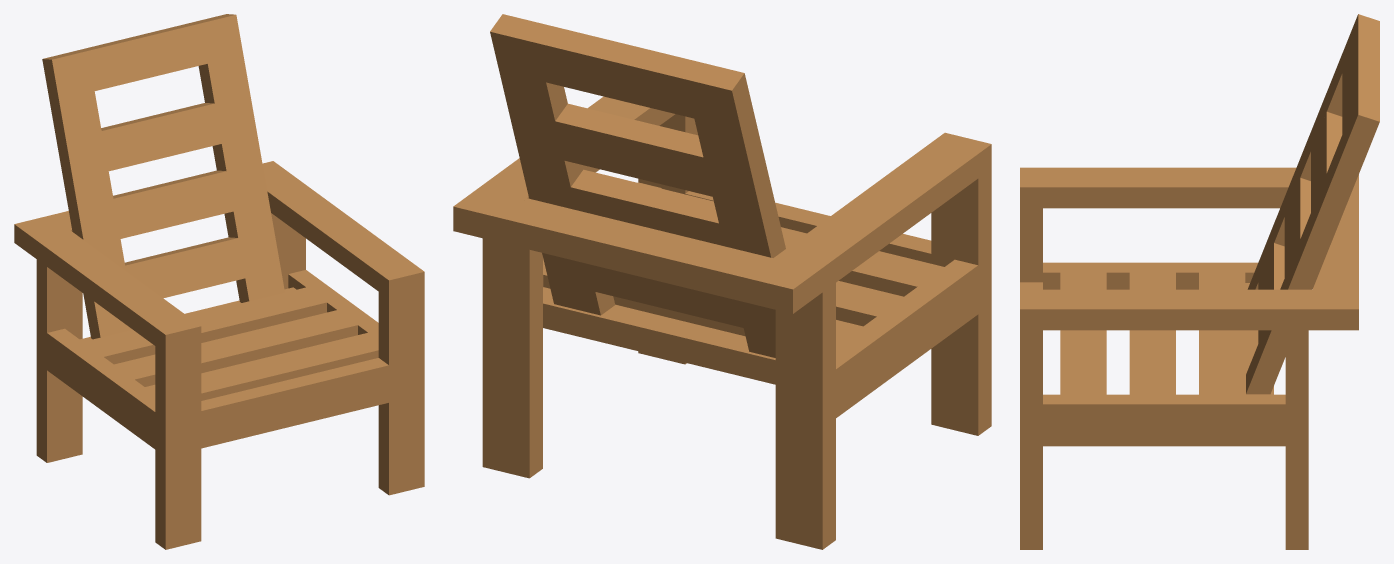
The model's file is lawnchair_01.fbx.
3 views of the same model, side by side, from view 1: azimuth 30°, elevation 25°; view 2: azimuth 150°, elevation 25°; view 3: azimuth 270°, elevation 25° (orthographic). The views are drawn at different scales.
Visible parts, largest first — view 1: Cube.013; view 2: Cube.013; view 3: Cube.013.
Part boxes in pixels (left/top/right/bottom): Cube.013: left=14, top=14, right=424, bottom=549; Cube.013: left=453, top=14, right=991, bottom=549; Cube.013: left=1020, top=14, right=1379, bottom=549.
Size of the model in its own units: 73.66 by 101 by 79.16.
